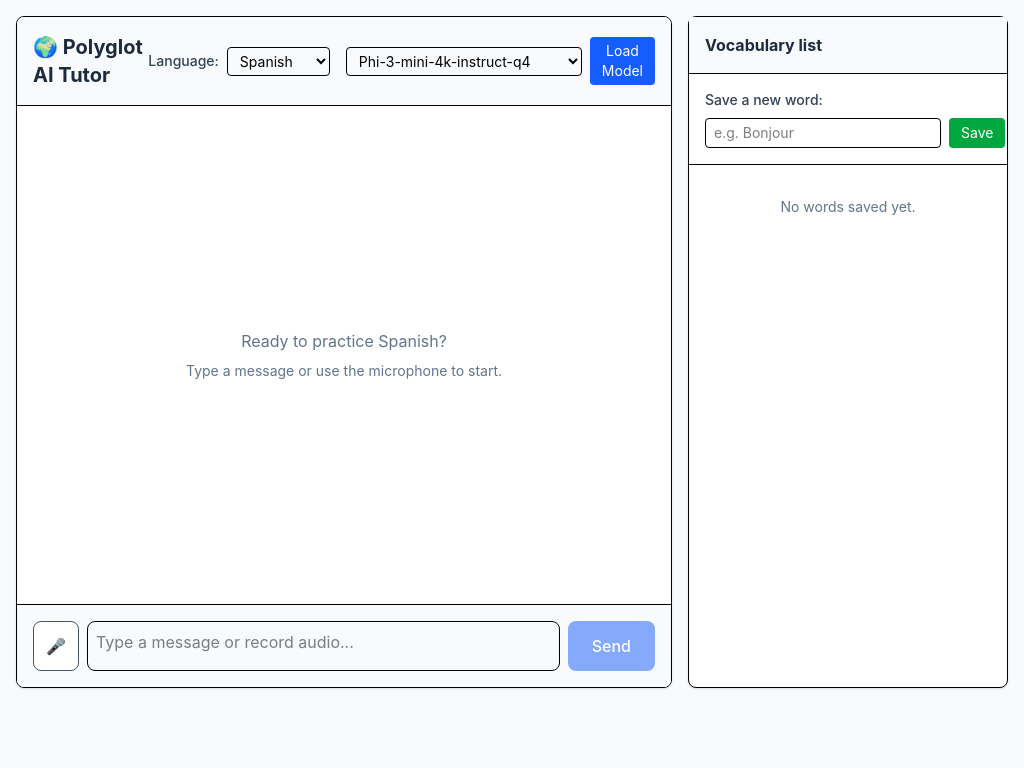
PolyglotPage › allows changing the target language
Select "French" in the dropdown labelled "Language:": (278, 61) [227, 46, 330, 76]
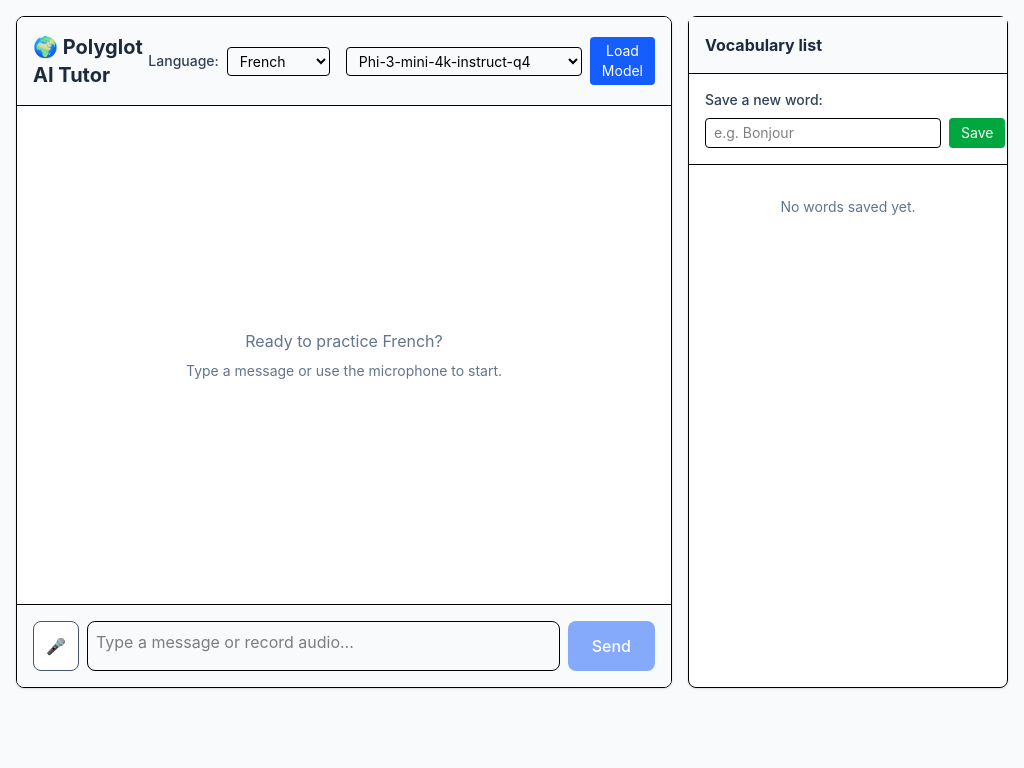
Expected: the text "Ready to practice French?" is shown, [245, 331, 443, 351]
